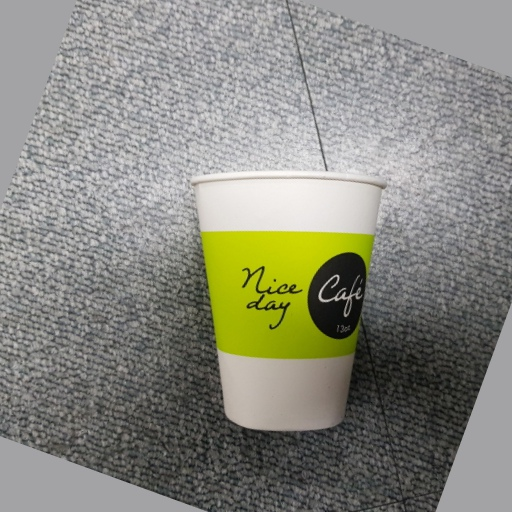Paper_1: (181, 165, 389, 435)
